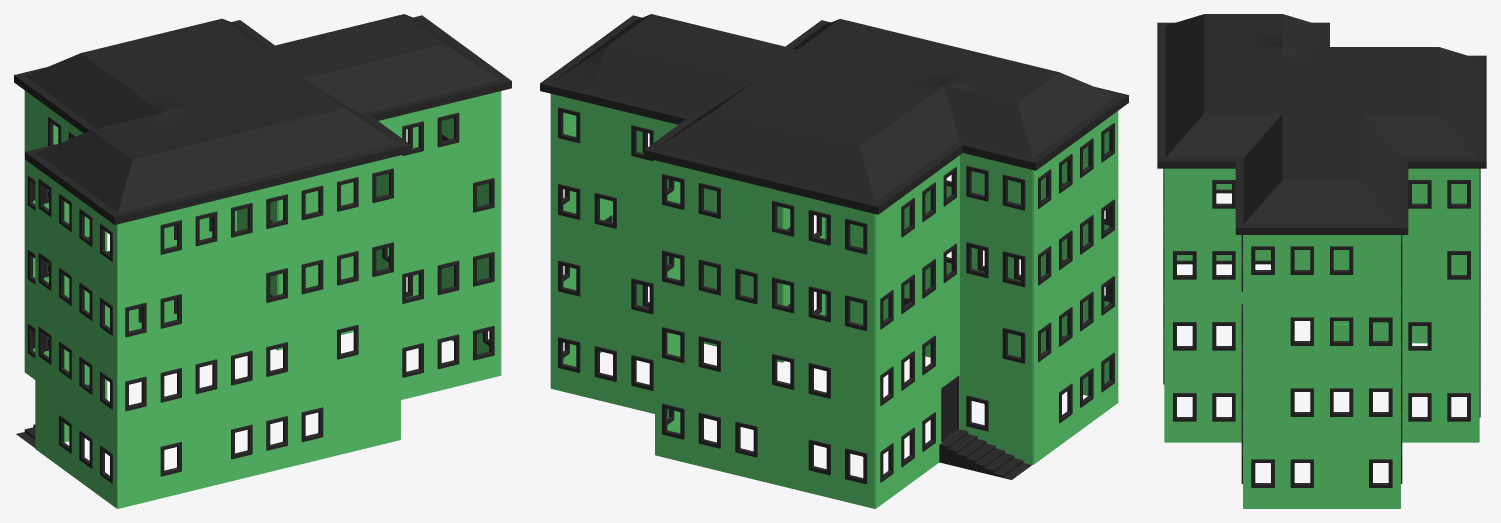
Rendered from big_house_01.fbx.
3 renders of one model, left to right at view 1: azimuth 30°, elevation 25°; view 2: azimuth 150°, elevation 25°; view 3: azimuth 270°, elevation 25°, orthographic. The views are drawn at different scales.
Visible parts, largest first — view 1: house1_W; view 2: house1_W; view 3: house1_W.
Part boxes in pixels (x1=…): house1_W: x1=14, y1=14, x2=511, y2=508; house1_W: x1=540, y1=14, x2=1128, y2=508; house1_W: x1=1157, y1=14, x2=1486, y2=508.
Size of the model in its own units: 1012 by 718 by 685.
